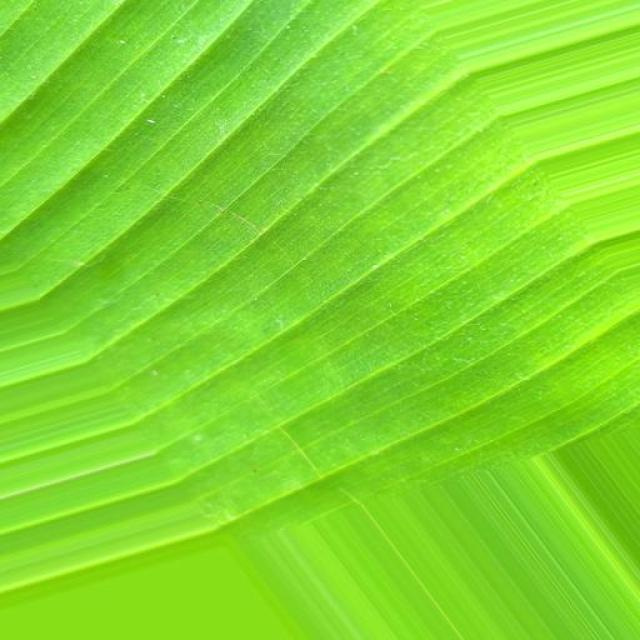Black_leaf_spot: (0, 0, 556, 504)
